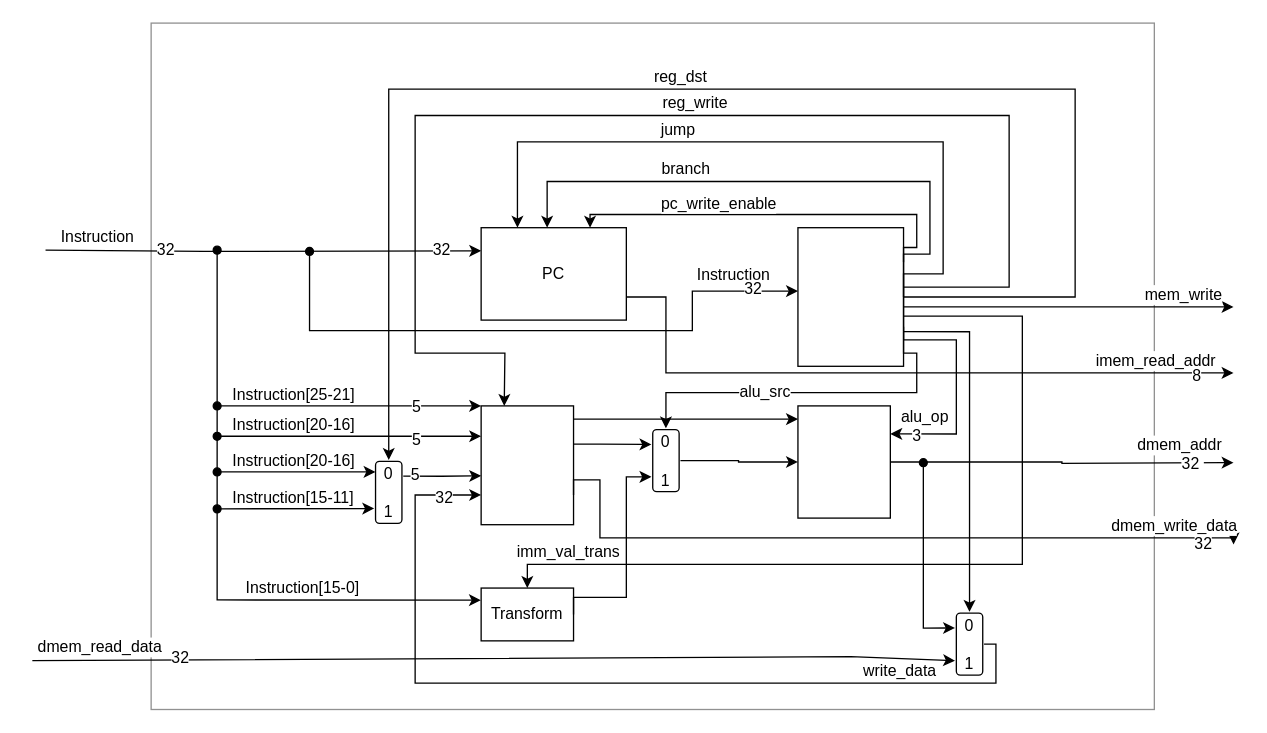
Some shapes in this 1267 by 733 pixel diagram are drawn without their labels. The centre of each missing label's shape, as x and y in pixels:
ALU: (x=843, y=461)
Control: (x=850, y=296)
Registers: (x=527, y=465)
